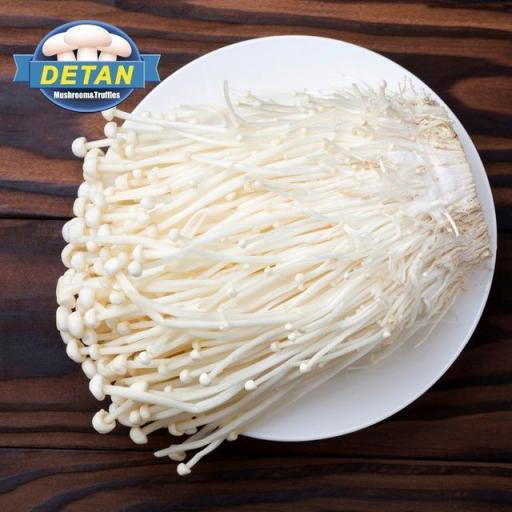Enoki Mushroom: (56, 88, 491, 470)
